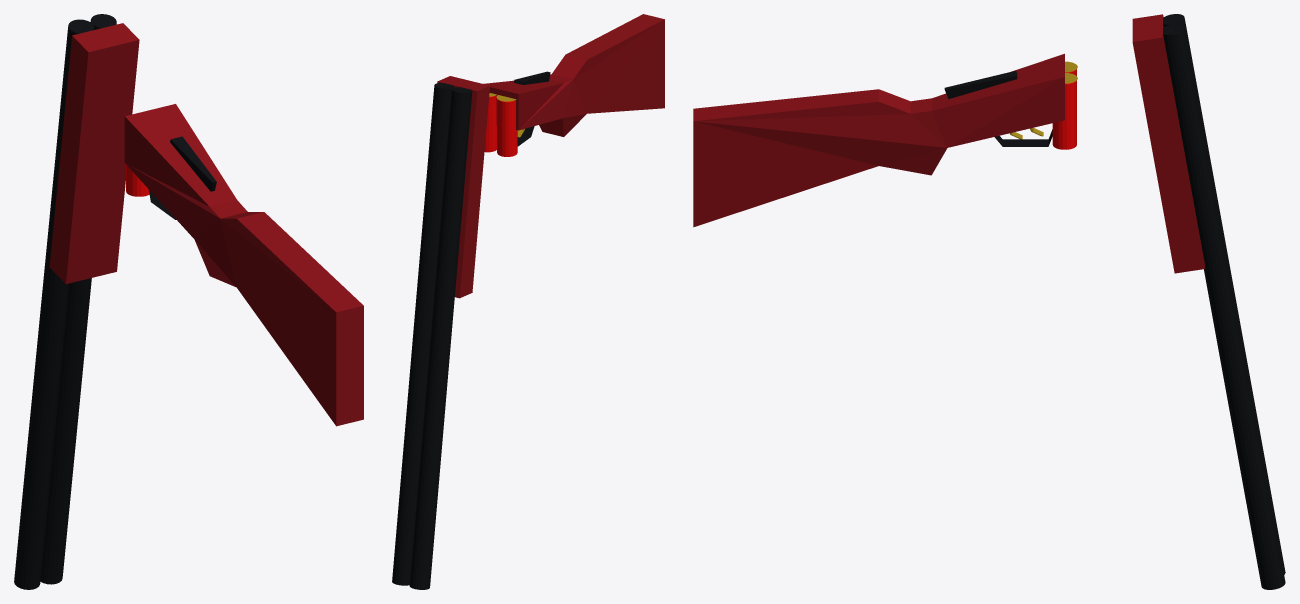
The model's file is double-barreled-shotgun0020.obj.
3 renders of one model, left to right at view 1: azimuth 30°, elevation 25°; view 2: azimuth 150°, elevation 25°; view 3: azimuth 270°, elevation 25°, orthographic. The views are drawn at different scales.
Visible parts, largest first — view 1: rearStock, foreGrip, leftBarrel, rightBarrel, topLatch; view 2: rearStock, leftBarrel, rightBarrel, foreGrip, shellPlastic, shellPlastic2; view 3: rearStock, rightBarrel, foreGrip, leftBarrel, shellPlastic2, topLatch.
Part boxes in pixels (left/top/right/bottom): rearStock: left=124, top=104, right=363, bottom=426; foreGrip: left=49, top=23, right=139, bottom=283; leftBarrel: left=14, top=19, right=94, bottom=589; rightBarrel: left=40, top=14, right=116, bottom=584; topLatch: left=170, top=136, right=216, bottom=191; rearStock: left=483, top=14, right=664, bottom=136; leftBarrel: left=409, top=87, right=472, bottom=589; rightBarrel: left=392, top=83, right=454, bottom=585; foreGrip: left=437, top=76, right=489, bottom=298; shellPlastic: left=497, top=99, right=517, bottom=156; shellPlastic2: left=484, top=95, right=496, bottom=152; rearStock: left=693, top=53, right=1064, bottom=227; rightBarrel: left=1163, top=24, right=1285, bottom=589; foreGrip: left=1132, top=14, right=1204, bottom=273; leftBarrel: left=1163, top=14, right=1285, bottom=574; shellPlastic2: left=1052, top=80, right=1076, bottom=149; topLatch: left=944, top=70, right=1017, bottom=99.
Size of the model in its own units: 0.2057 by 2.3 by 2.21.
